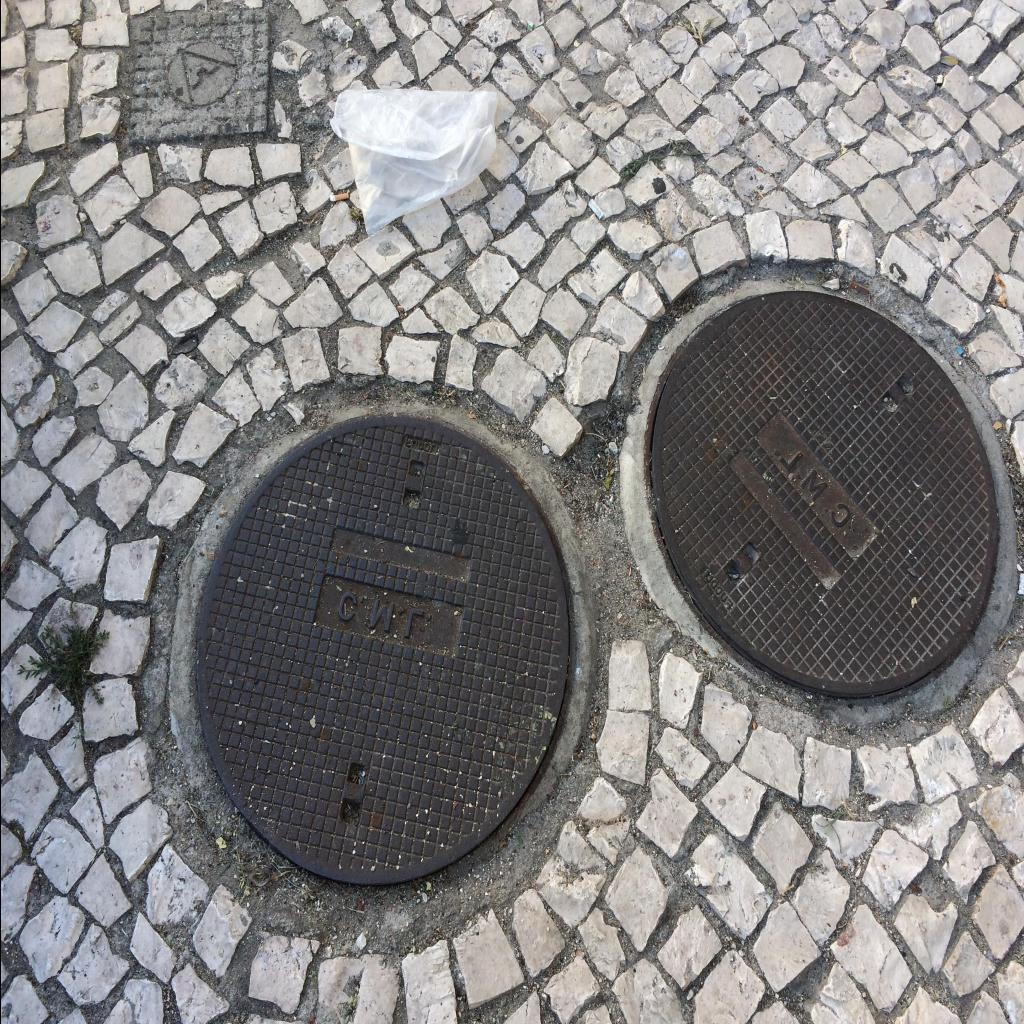Cigarette: (587, 198, 604, 222), (329, 192, 348, 202)
Plastic film: (328, 90, 498, 237)
